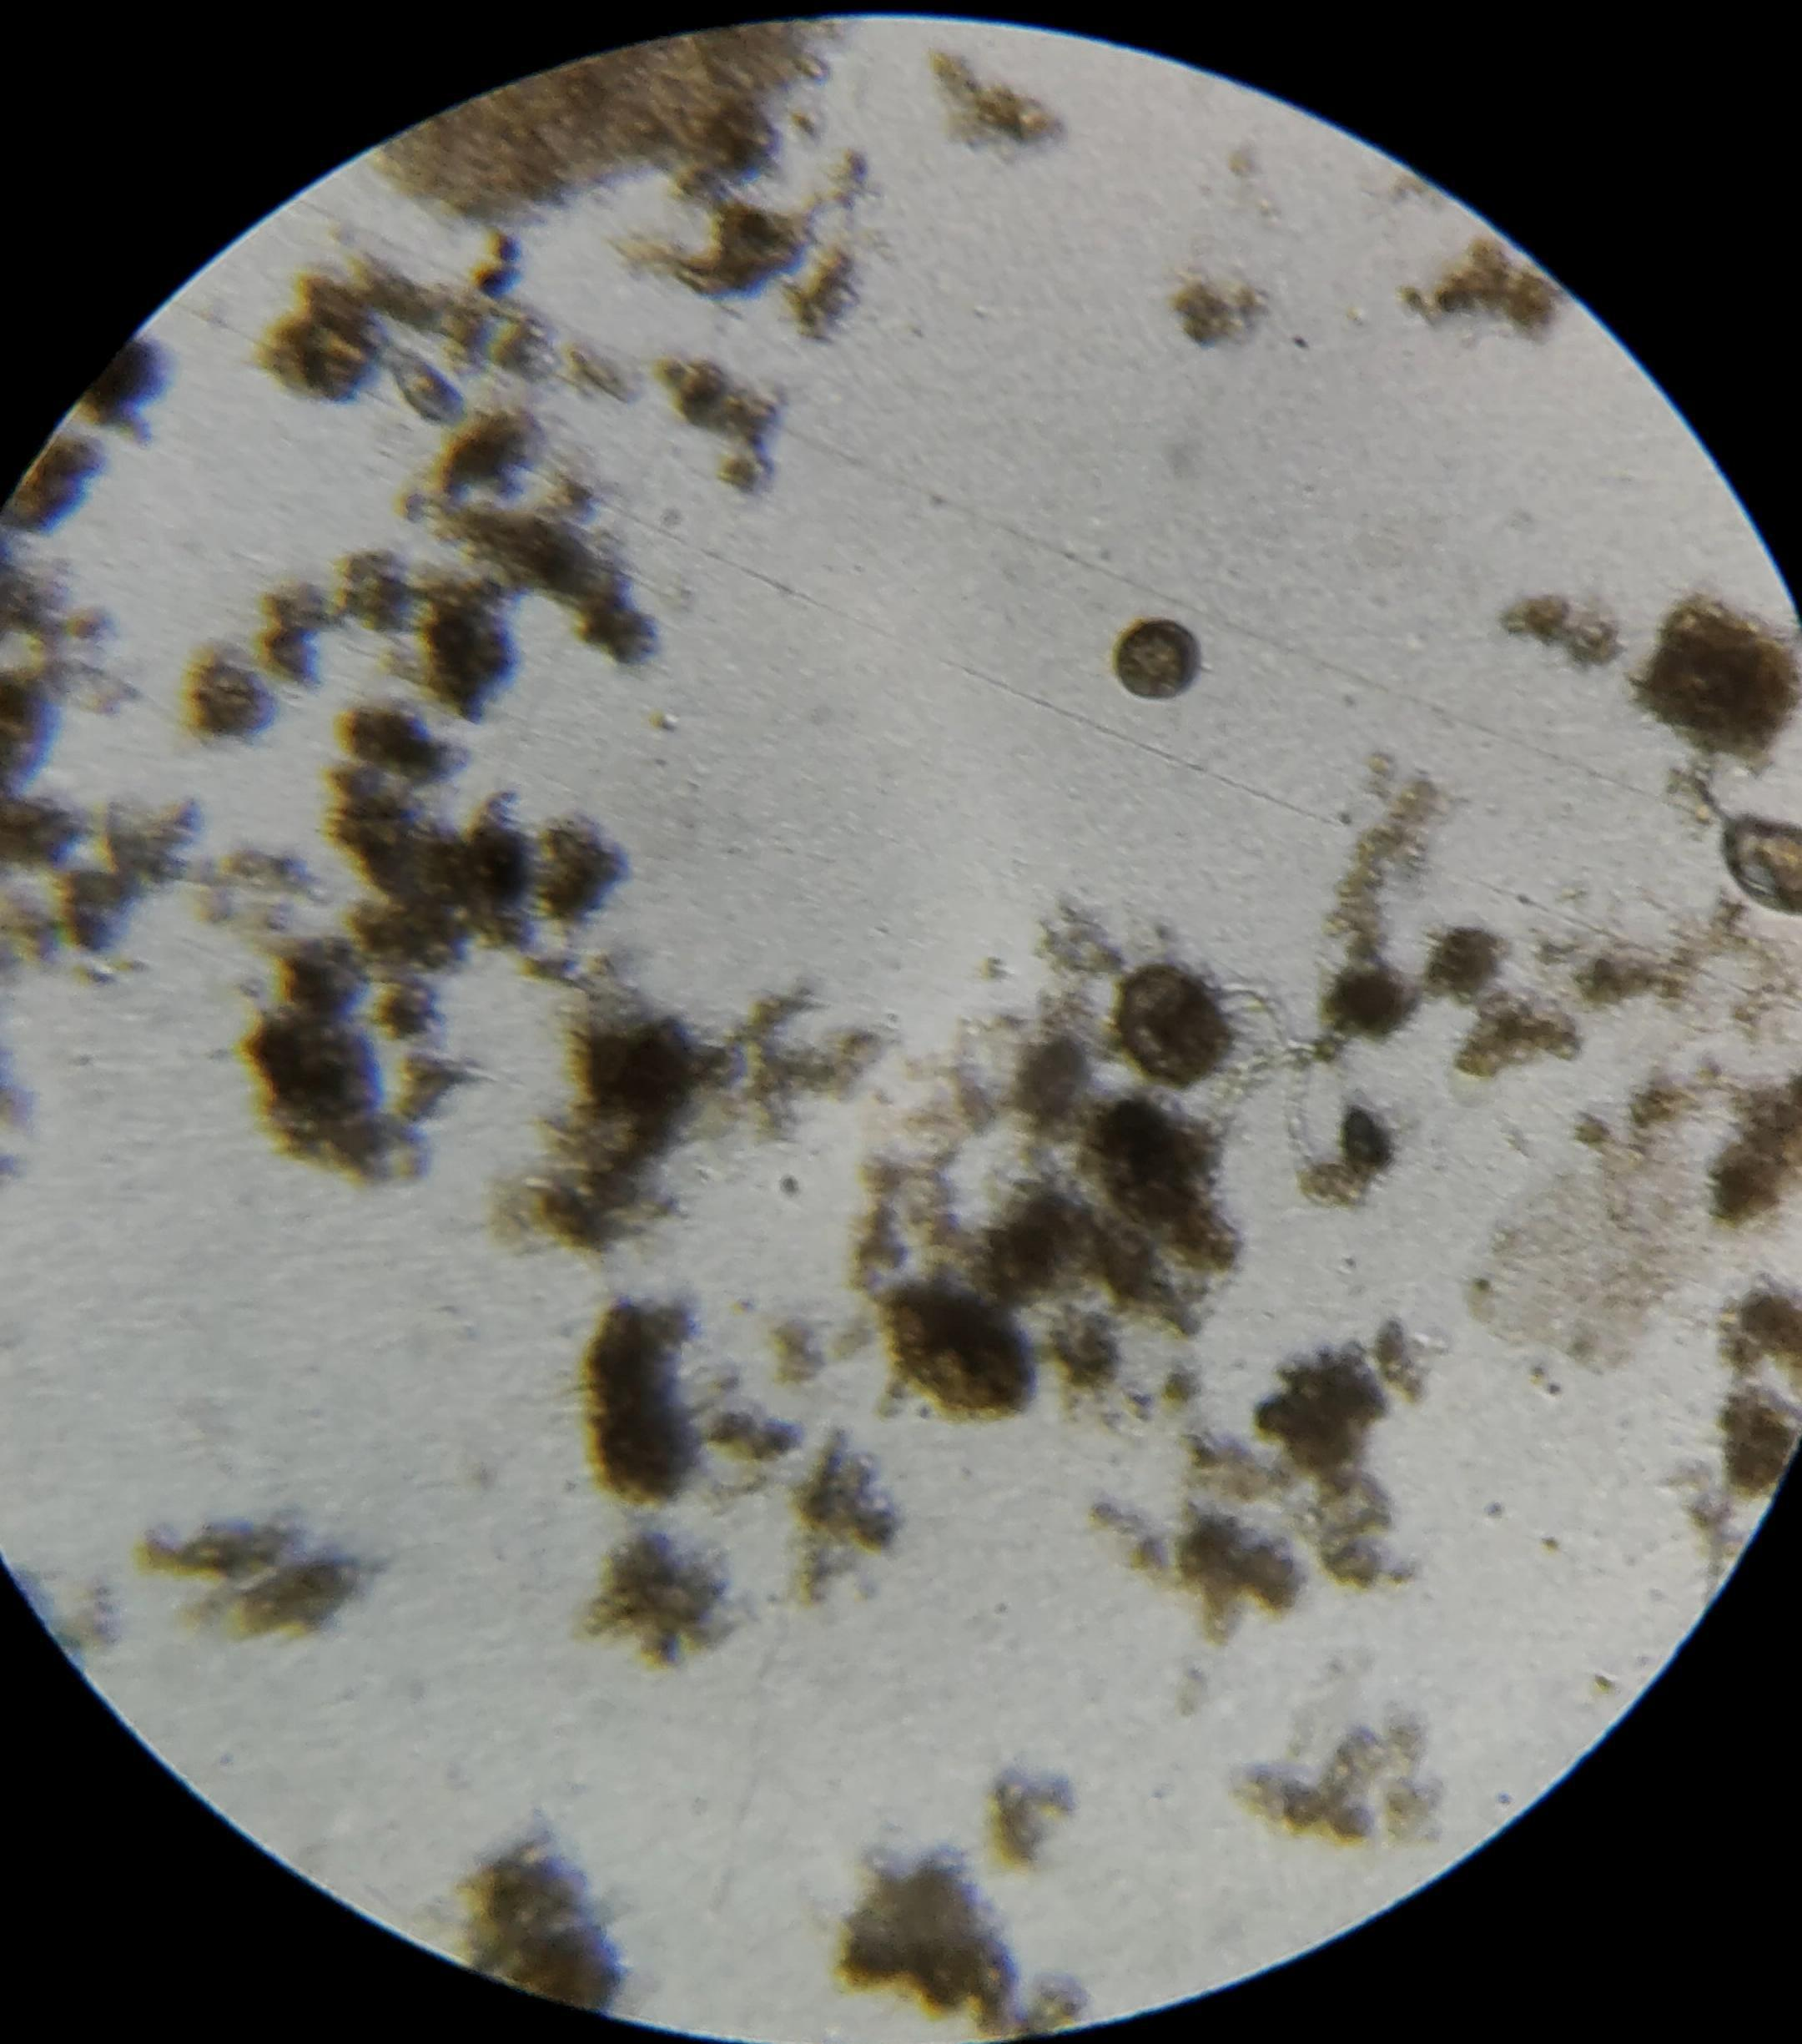Mo: (1692, 776, 1802, 917)
